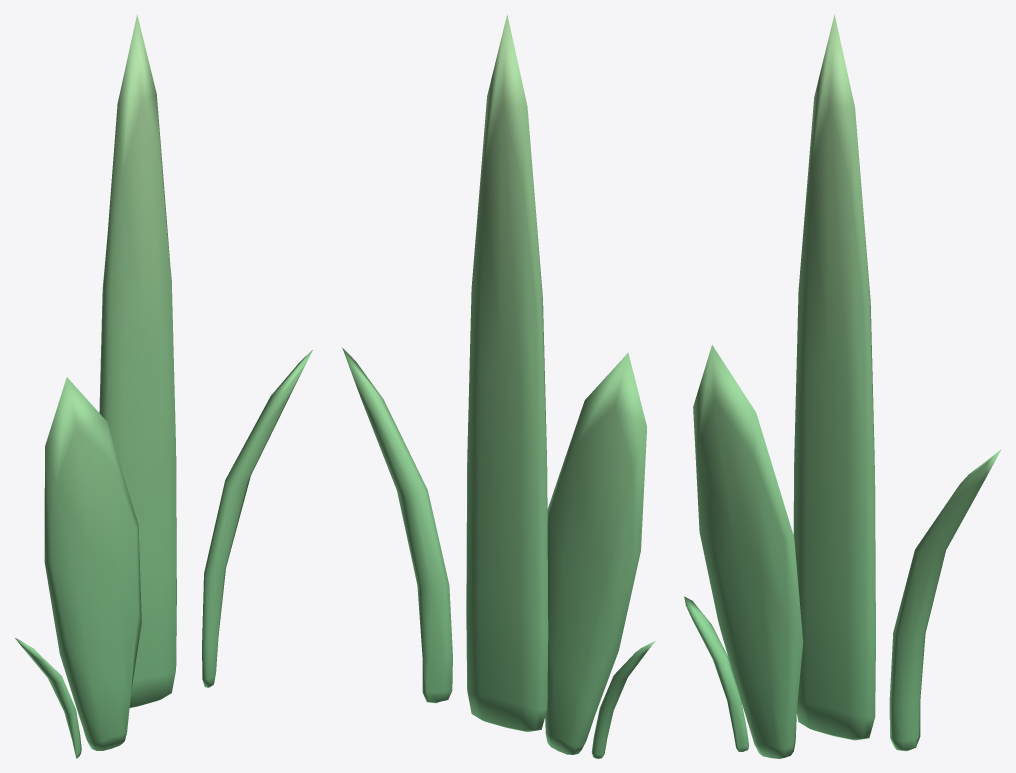
Rendered from Grass_2.fbx.
3 views of the same model, side by side, from view 1: azimuth 30°, elevation 25°; view 2: azimuth 150°, elevation 25°; view 3: azimuth 330°, elevation 25° (orthographic). The views are drawn at different scales.
Parts seen in each view (by area): view 1: Grass_2; view 2: Grass_2; view 3: Grass_2.
Part boxes in pixels (x1,y1,x2,y2): Grass_2: [15, 14, 312, 758]; Grass_2: [342, 14, 655, 758]; Grass_2: [684, 14, 1001, 758].
Size of the model in its own units: 0.3689 by 0.8352 by 0.0727.
